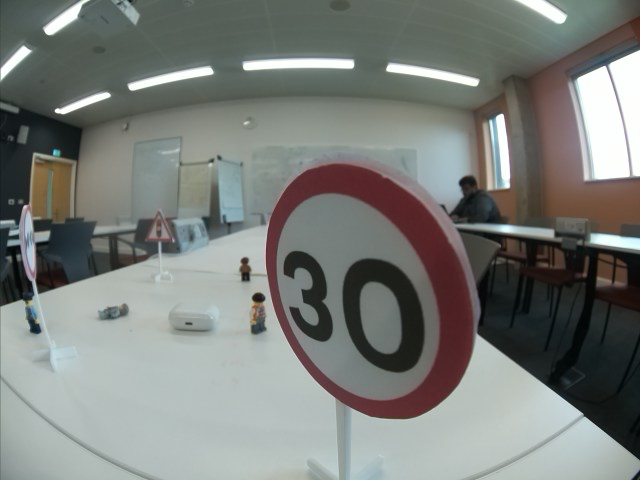30mph: (263, 160, 483, 421)
6ft6: (18, 205, 39, 281)
Lego Man: (20, 291, 42, 335), (247, 290, 268, 335), (94, 302, 133, 318), (238, 256, 254, 284)
Traffic lights: (145, 211, 176, 242)
